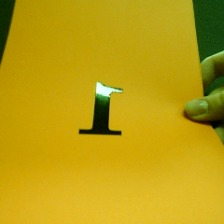orange1: (72, 75, 133, 145)
